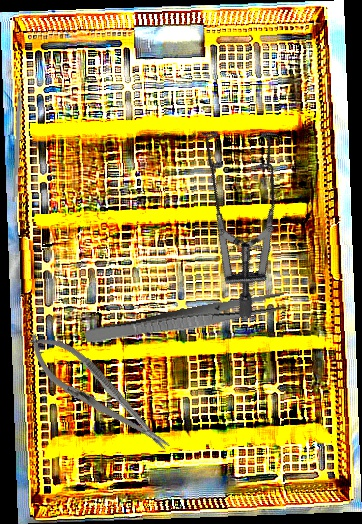Dressing Forceps: (83, 289, 288, 351)
Needle Holder: (16, 320, 181, 466)
Spatula Surgical: (12, 76, 28, 203)
Speculum: (129, 99, 340, 323)
